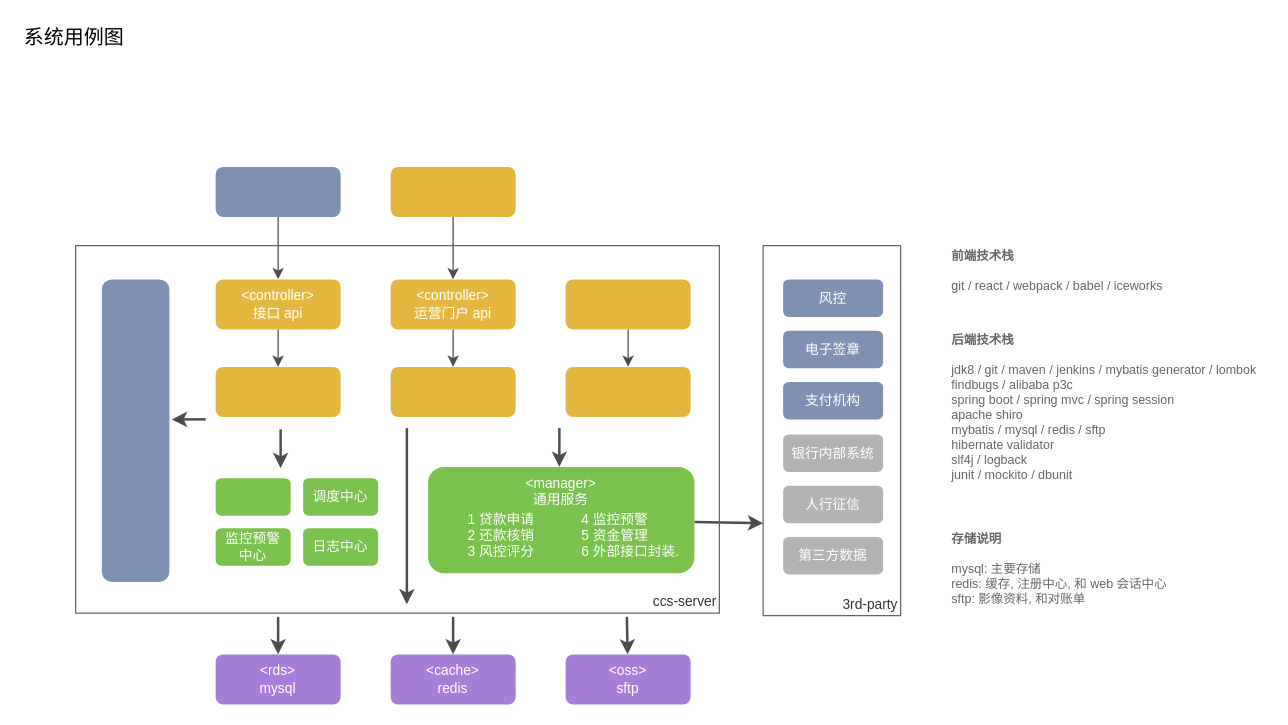
This 1288x725 diagram has some shape labels left out. The centre of each missing label's shape, as x and y in pixels:
<controller> 调度入口: [627,304]
<lib> 基础支撑 工具库 脚手架 框架封装 ... ...: [135,430]
<service> 接口服务: [277,391]
<service> 调度服务: [627,391]
<service> 运营门户服务: [452,391]
<system> 合作机构: [277,191]
<web> 运营门户: [452,191]
工作流引擎: [252,496]
